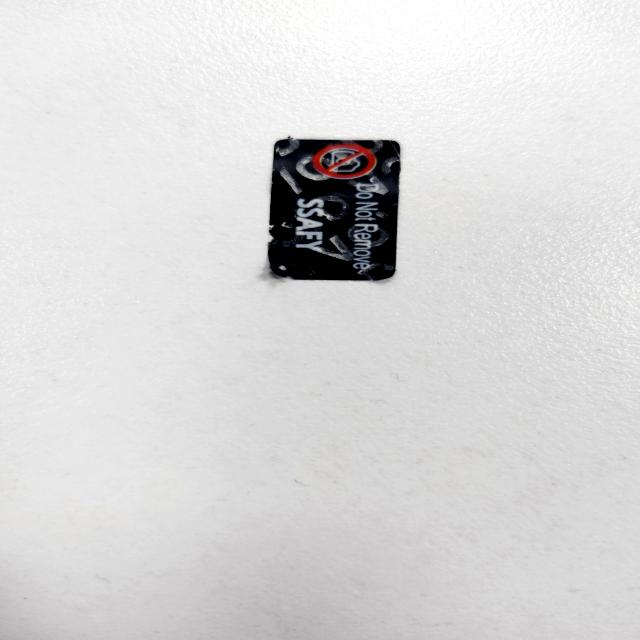removed_sticker: (270, 138, 404, 286)
